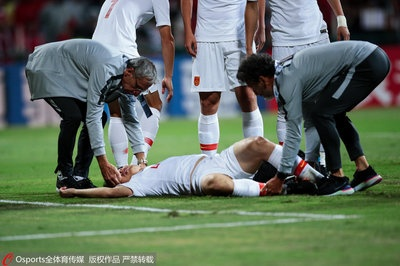falling: (53, 130, 347, 198)
